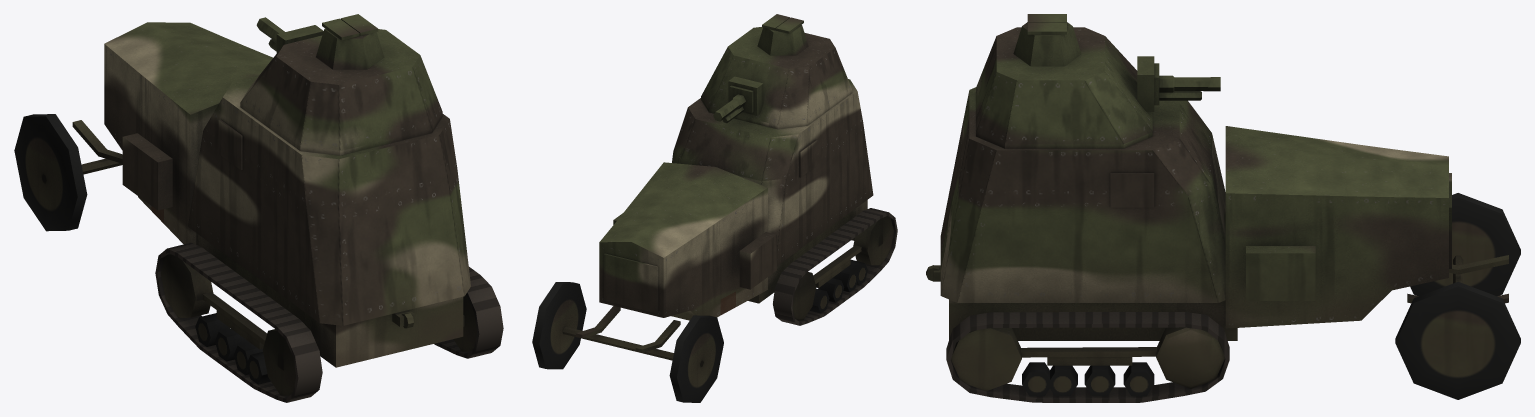
File: WZ28_37_MID.fbx
3 views of the same model, side by side, from view 1: azimuth 30°, elevation 25°; view 2: azimuth 150°, elevation 25°; view 3: azimuth 270°, elevation 25° (orthographic). The views are drawn at different scales.
Visible parts, largest first — view 1: Chassis, Tourelle_01, Chenille_Gauche_01, Roue_Gauche_01, Chenille_Droite_01, Roue_G1, Roue_G6, Roue_G2, Roue_D6, Axe_Canon_01, Roue_G3, Roue_G5 (+1 smaller); view 2: Chassis, Tourelle_01, Chenille_Gauche_01, Roue_Gauche_01, Roue_Droite_01, Roue_G6, Axe_Canon_01, Roue_G1, Canon_01, Roue_G3, Roue_G4, Roue_G2; view 3: Chassis, Tourelle_01, Roue_Droite_01, Chenille_Droite_01, Roue_Gauche_01, Roue_D6, Roue_D1, Axe_Canon_01, Canon_01, Roue_D2, Roue_D3, Roue_D5 (+1 smaller).
Boxes of the visible parts, left/top/right/bottom form: Chassis: left=72, top=22, right=470, bottom=367; Tourelle_01: left=240, top=14, right=442, bottom=155; Chenille_Gauche_01: left=155, top=242, right=322, bottom=402; Roue_Gauche_01: left=14, top=114, right=87, bottom=231; Chenille_Droite_01: left=434, top=266, right=503, bottom=358; Roue_G1: left=161, top=254, right=213, bottom=317; Roue_G6: left=263, top=329, right=295, bottom=395; Roue_G2: left=195, top=313, right=230, bottom=346; Roue_D6: left=453, top=295, right=476, bottom=351; Axe_Canon_01: left=268, top=25, right=323, bottom=53; Roue_G3: left=215, top=329, right=249, bottom=361; Roue_G5: left=247, top=352, right=270, bottom=384; Chassis: left=562, top=79, right=873, bottom=360; Tourelle_01: left=701, top=14, right=852, bottom=128; Chenille_Gauche_01: left=773, top=208, right=897, bottom=325; Roue_Gauche_01: left=669, top=315, right=723, bottom=402; Roue_Droite_01: left=532, top=282, right=586, bottom=369; Roue_G6: left=853, top=216, right=894, bottom=265; Axe_Canon_01: left=722, top=76, right=763, bottom=123; Roue_G1: left=792, top=272, right=816, bottom=320; Canon_01: left=713, top=94, right=746, bottom=121; Roue_G3: left=818, top=278, right=844, bottom=302; Roue_G4: left=832, top=268, right=858, bottom=292; Roue_G2: left=810, top=288, right=829, bottom=313; Chassis: left=926, top=87, right=1508, bottom=365; Tourelle_01: left=976, top=14, right=1152, bottom=148; Roue_Droite_01: left=1395, top=281, right=1520, bottom=399; Chenille_Droite_01: left=946, top=312, right=1229, bottom=402; Roue_Gauche_01: left=1410, top=193, right=1520, bottom=296; Roue_D6: left=951, top=328, right=1021, bottom=391; Roue_D1: left=1156, top=327, right=1224, bottom=388; Axe_Canon_01: left=1137, top=56, right=1201, bottom=111; Canon_01: left=1159, top=75, right=1220, bottom=92; Roue_D2: left=1123, top=362, right=1154, bottom=396; Roue_D3: left=1084, top=365, right=1115, bottom=396; Roue_D5: left=1022, top=362, right=1051, bottom=396.
Bounding box in the file's own units: 138 × 350 × 215.
1 material, 1 textured.
